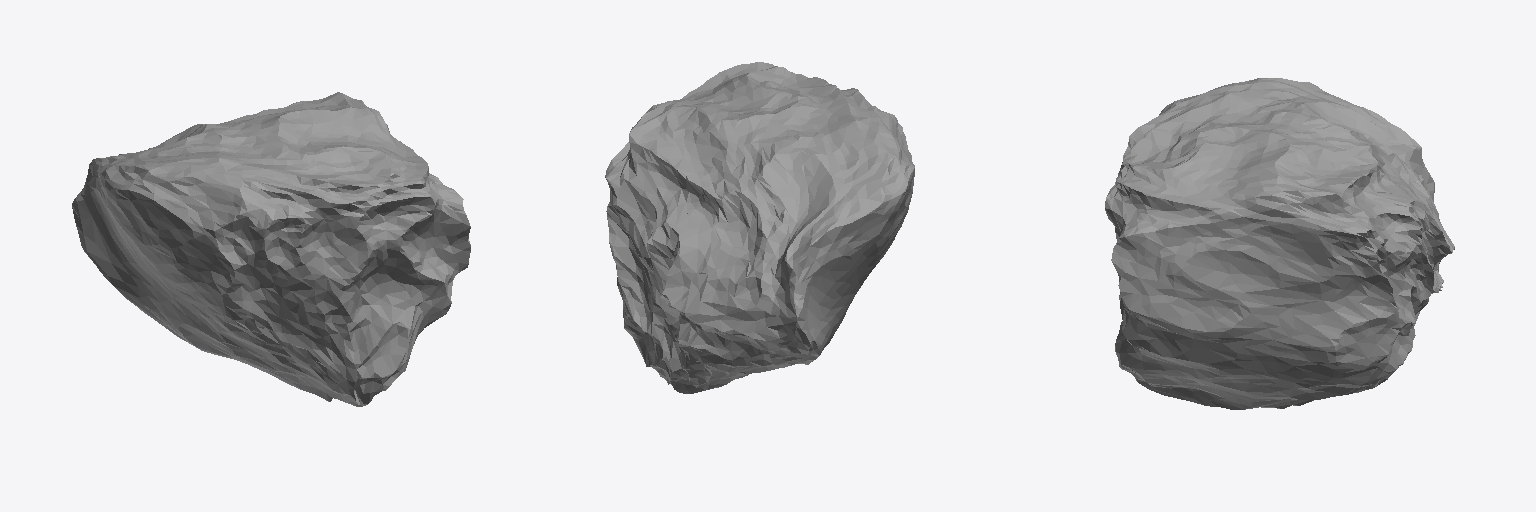
The model's file is mymeteor.obj.
3 views of the same model, side by side, from view 1: azimuth 30°, elevation 25°; view 2: azimuth 150°, elevation 25°; view 3: azimuth 270°, elevation 25° (orthographic).
Visible parts, largest first — view 1: Landscape; view 2: Landscape; view 3: Landscape.
Boxes of the visible parts, box(x1,y1,x2,y2) form: Landscape: box(72, 92, 470, 406); Landscape: box(605, 62, 914, 393); Landscape: box(1105, 78, 1454, 409).
Bounding box in the file's own units: 13.77 × 12.59 × 15.09.